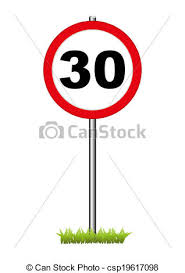Speed_limit_30km: (43, 20, 142, 118)
